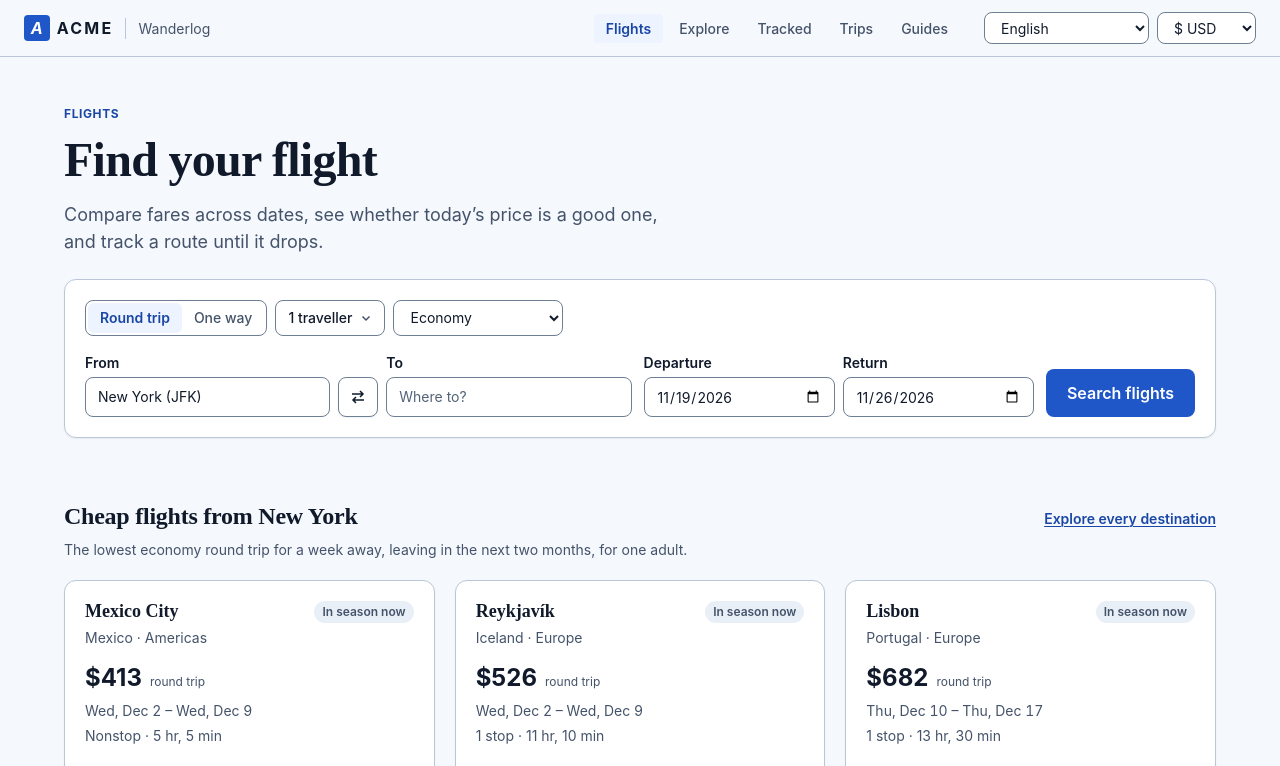
it: Flights › validates the form before searching
Step 1. Type "Atlantis" into the field named "to" → {"x": 509, "y": 397}, box [386,377,631,417]
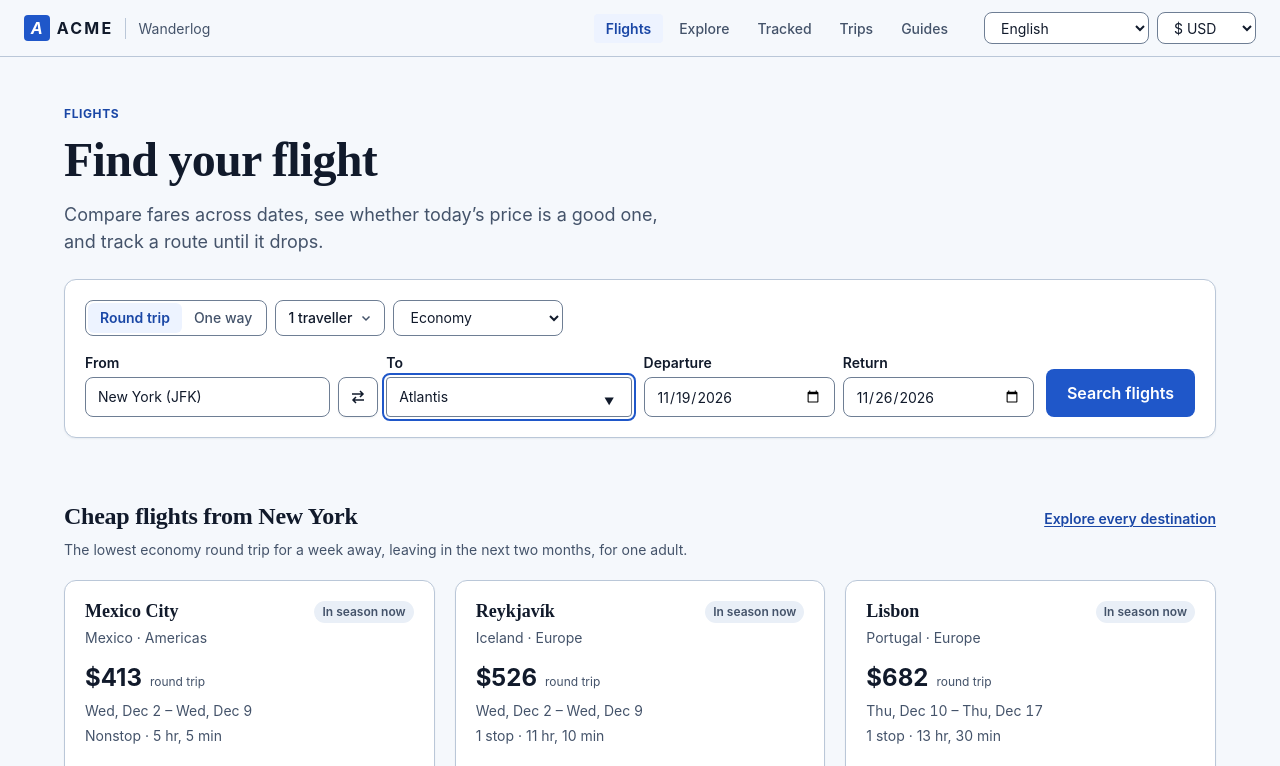
Step 2. Focus the date field named "depart" → {"x": 740, "y": 397}, box [644,377,835,417]
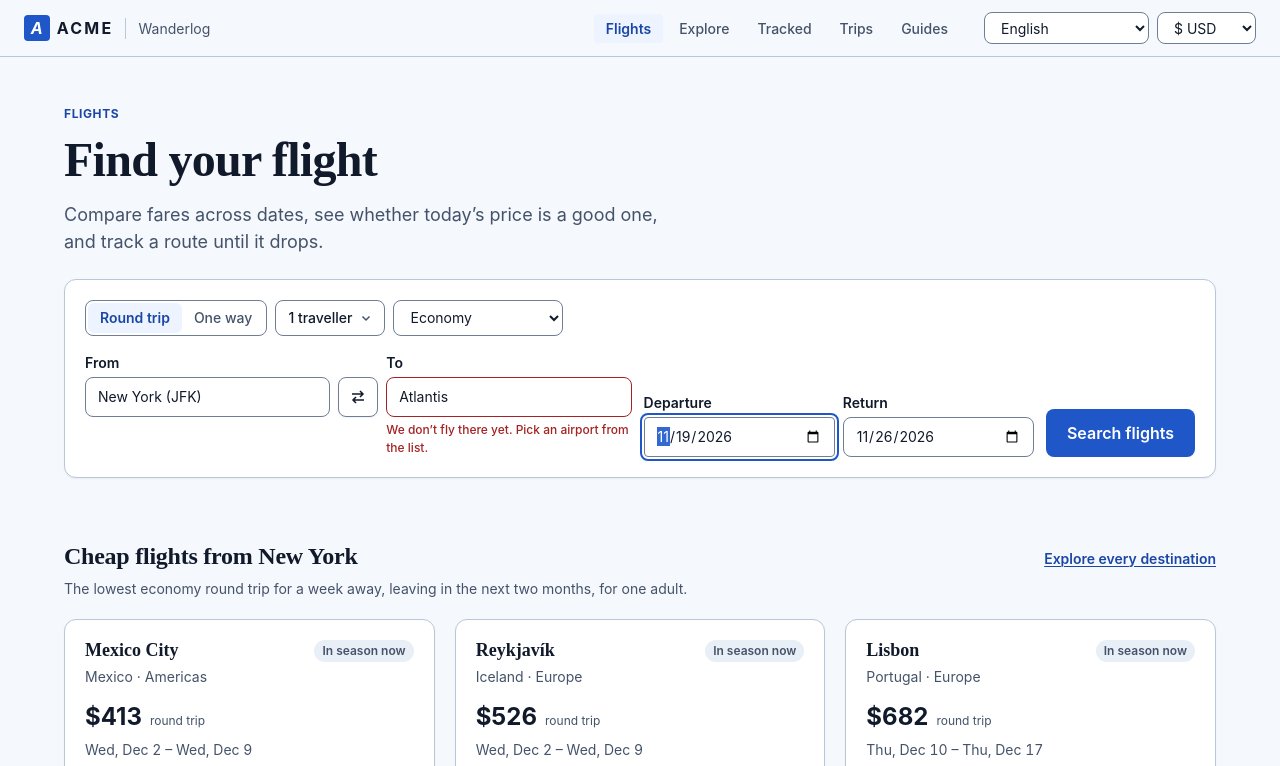
Check: the text "We don’t fly there yet" is shown, box [386,422,628,455]
Step 3. Click the button "Search flights" → {"x": 1121, "y": 433}, box [1046,409,1195,457]
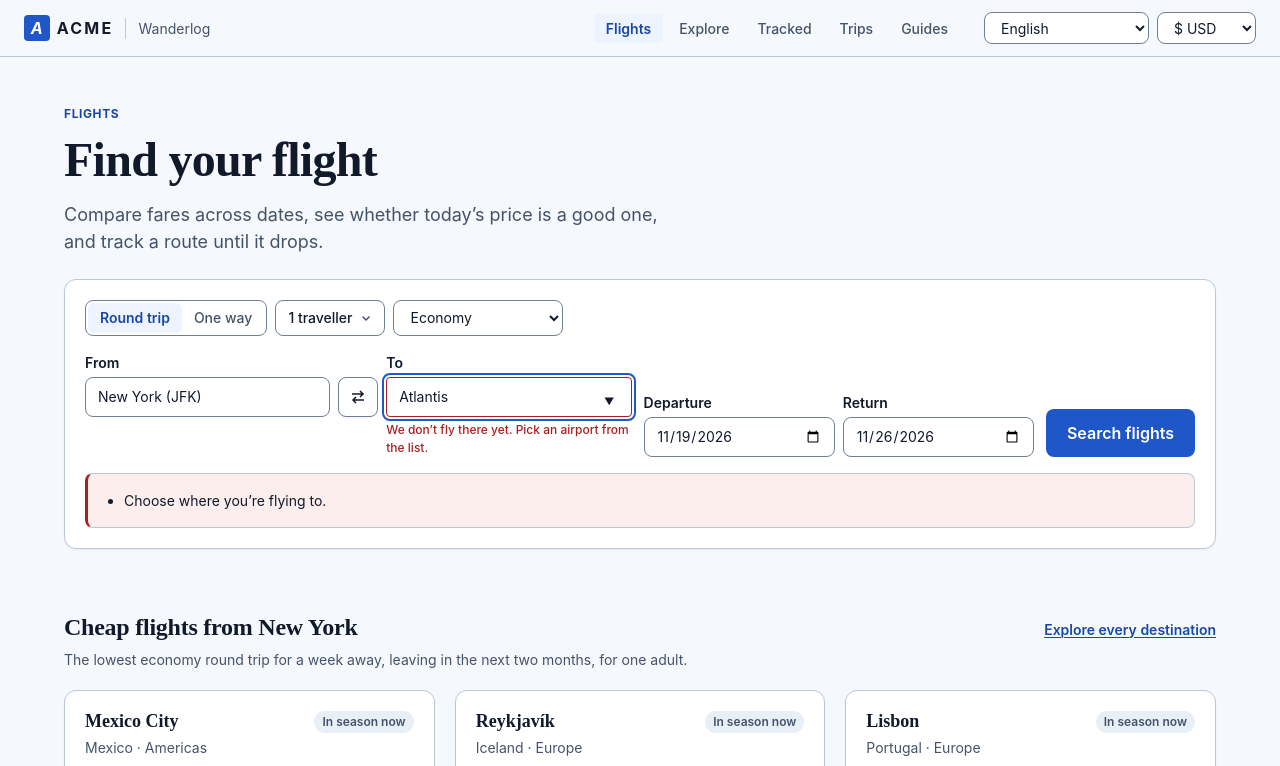
Check: the list item "Choose where you’re flying to." is shown, box [124,490,326,511]
